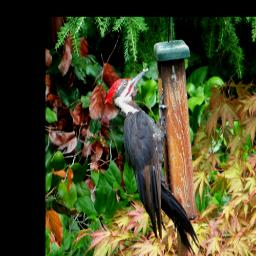Woodpecker: (104, 68, 199, 254)
